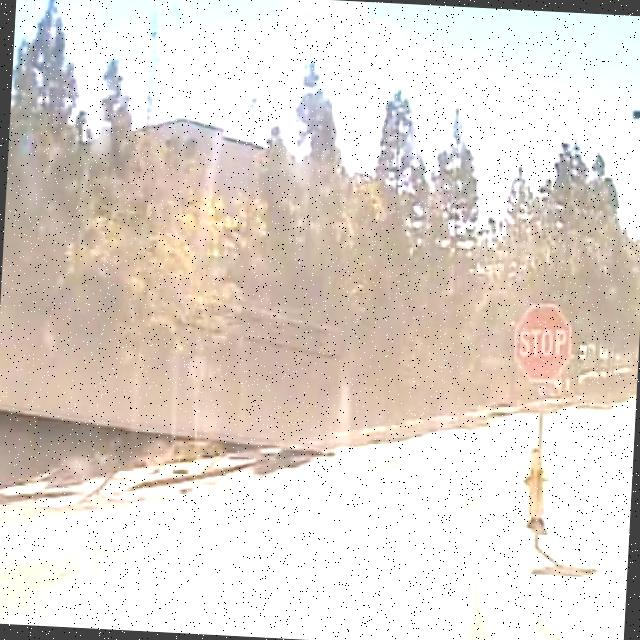Stop: (512, 302, 576, 386)
